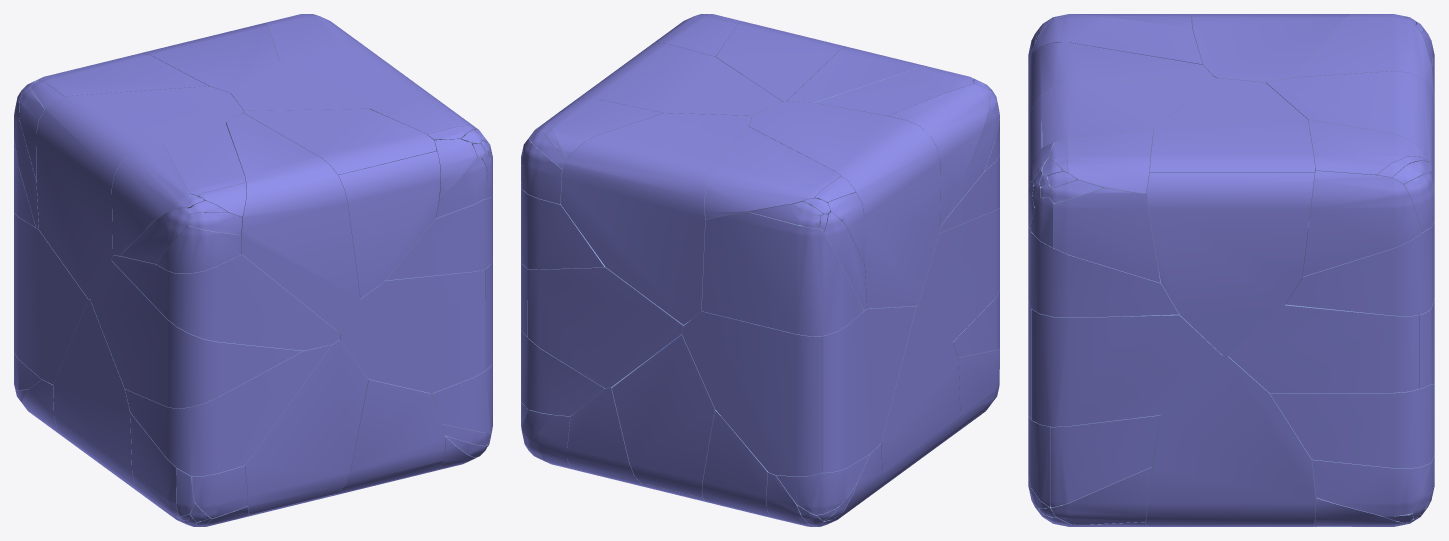
The model's file is cracked-cube.glb.
The picture shows the model from 3 angles, left to right: view 1: azimuth 30°, elevation 25°; view 2: azimuth 150°, elevation 25°; view 3: azimuth 270°, elevation 25°; orthographic projection. The views are drawn at different scales.
Parts seen in each view (by area): view 1: Cube_cell.015, Cube_cell.071, Cube_cell.007, Cube_cell.049, Cube_cell.022, Cube_cell.042, Cube_cell.058, Cube_cell.062, Cube_cell.056, Cube_cell.086, Cube_cell.038, Cube_cell.078 (+26 smaller); view 2: Cube_cell.037, Cube_cell.015, Cube_cell.014, Cube_cell.072, Cube_cell.031, Cube_cell.040, Cube_cell.038, Cube_cell.056, Cube_cell.086, Cube_cell.077, Cube_cell.049, Cube_cell.053 (+24 smaller); view 3: Cube_cell.095, Cube_cell.069, Cube_cell.076, Cube_cell.070, Cube_cell.086, Cube_cell.088, Cube_cell.074, Cube_cell.037, Cube_cell.015, Cube_cell.083, Cube_cell.053, Cube_cell.039 (+20 smaller).
Boxes of the visible parts, x1,y1,x2,y2 form: Cube_cell.015: (36,86,243,299); Cube_cell.071: (226,113,360,333); Cube_cell.007: (336,269,485,393); Cube_cell.049: (90,260,302,408); Cube_cell.022: (245,340,368,514); Cube_cell.042: (111,254,340,350); Cube_cell.058: (125,345,331,475); Cube_cell.062: (338,151,440,298); Cube_cell.056: (53,299,141,494); Cube_cell.086: (230,42,436,110); Cube_cell.038: (14,213,88,384); Cube_cell.078: (334,379,444,495); Cube_cell.037: (561,113,751,325); Cube_cell.015: (749,101,940,308); Cube_cell.014: (682,311,822,476); Cube_cell.072: (701,212,863,336); Cube_cell.031: (527,267,690,388); Cube_cell.040: (611,334,715,497); Cube_cell.038: (822,306,916,472); Cube_cell.056: (874,304,960,492); Cube_cell.086: (576,43,781,116); Cube_cell.077: (704,127,840,219); Cube_cell.049: (918,208,999,341); Cube_cell.053: (716,21,845,101); Cube_cell.095: (1146,173,1314,356); Cube_cell.069: (1145,356,1315,526); Cube_cell.076: (1031,309,1222,426); Cube_cell.070: (1228,304,1419,392); Cube_cell.086: (1150,78,1314,220); Cube_cell.088: (1269,383,1434,468); Cube_cell.074: (1303,170,1421,276); Cube_cell.037: (1266,71,1434,179); Cube_cell.015: (1191,14,1350,82); Cube_cell.083: (1286,221,1434,316); Cube_cell.053: (1042,76,1217,147); Cube_cell.039: (1028,227,1179,317).
Bounding box in the file's own units: 2 × 2 × 2.
